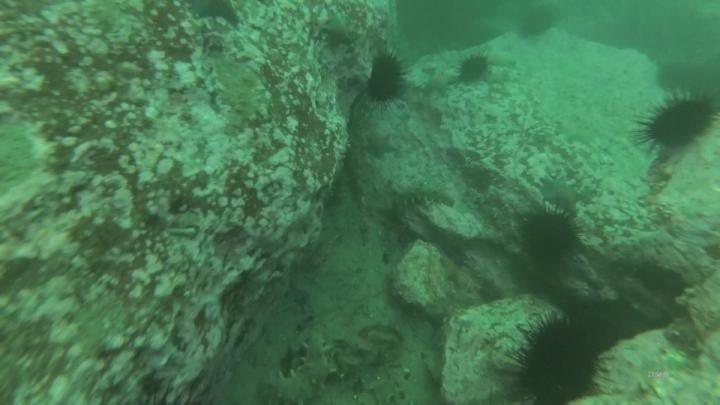echinus: (503, 314, 610, 403), (637, 88, 719, 155), (516, 204, 582, 269), (364, 49, 409, 106), (654, 59, 700, 96), (515, 6, 558, 41), (455, 52, 492, 85)
holothurian: (259, 330, 339, 405), (387, 181, 456, 211)
starfish: (537, 174, 585, 216), (318, 7, 358, 48), (185, 1, 243, 28), (556, 117, 599, 147), (361, 127, 399, 159), (421, 64, 460, 95), (437, 253, 464, 285), (481, 49, 519, 70)
